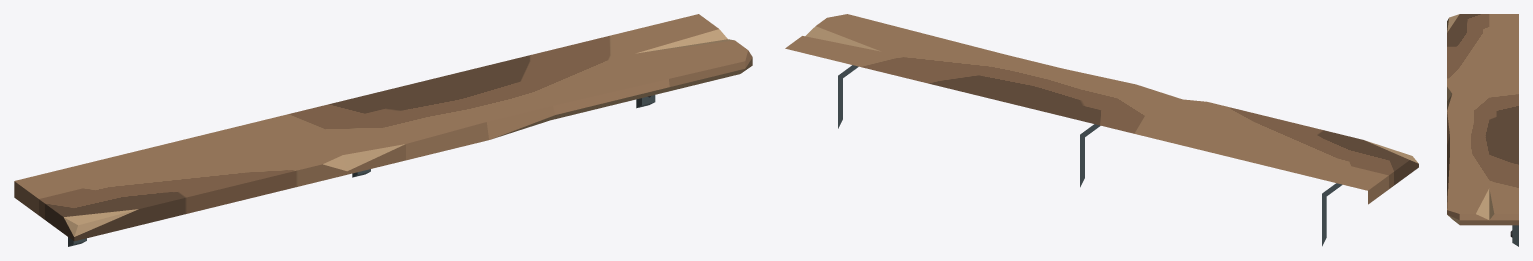
Rendered from SM_Shelf_01.gltf.
The picture shows the model from 3 angles, left to right: view 1: azimuth 30°, elevation 25°; view 2: azimuth 150°, elevation 25°; view 3: azimuth 270°, elevation 25°; orthographic projection. The views are drawn at different scales.
Parts seen in each view (by area): view 1: SM_Shelf_01; view 2: SM_Shelf_01; view 3: SM_Shelf_01.
Part boxes in pixels (x1=…): SM_Shelf_01: x1=14, y1=14, x2=752, y2=246; SM_Shelf_01: x1=785, y1=14, x2=1418, y2=246; SM_Shelf_01: x1=1447, y1=14, x2=1518, y2=246.
Size of the model in its own units: 2 by 0.2194 by 0.3015.
1 material, 1 textured.
